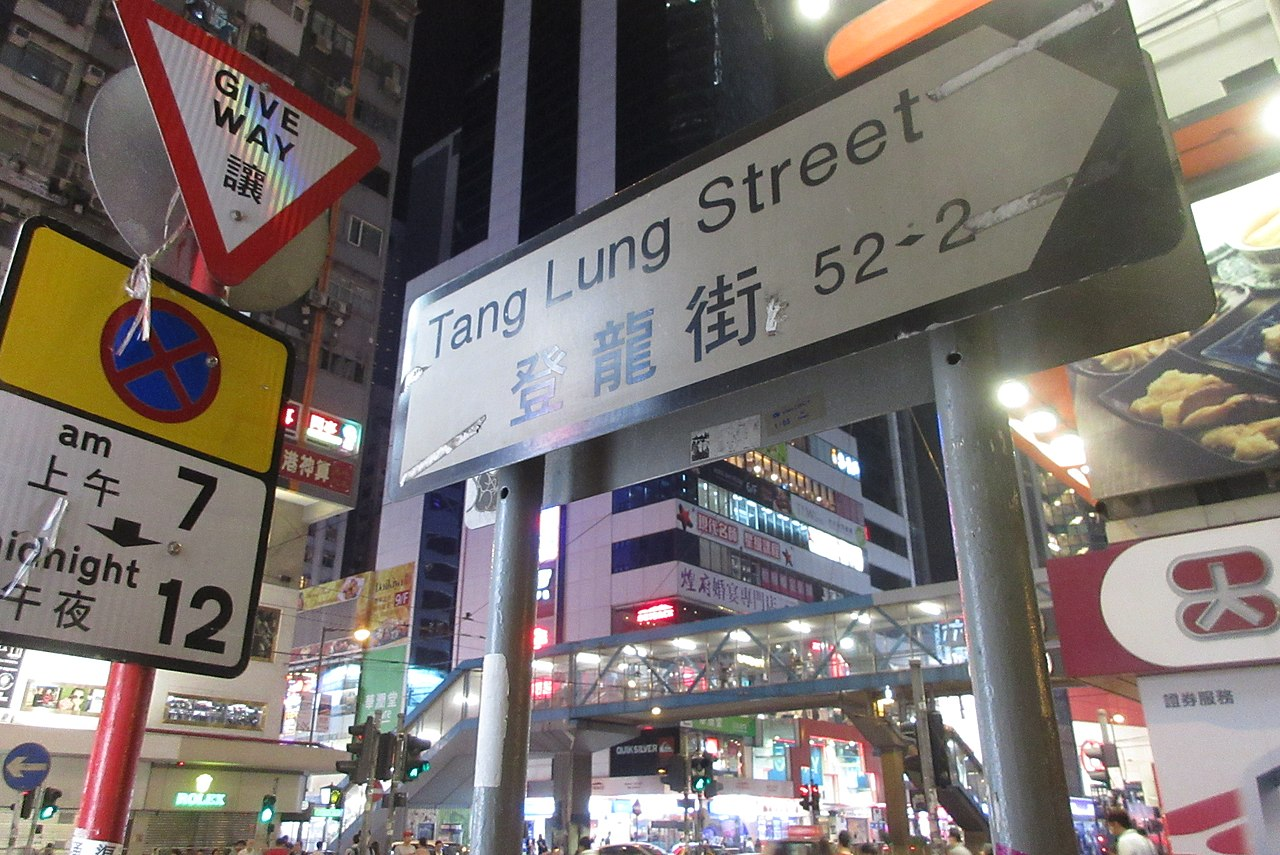Give Way: (115, 5, 384, 286)
Turn Left: (0, 738, 53, 788)
